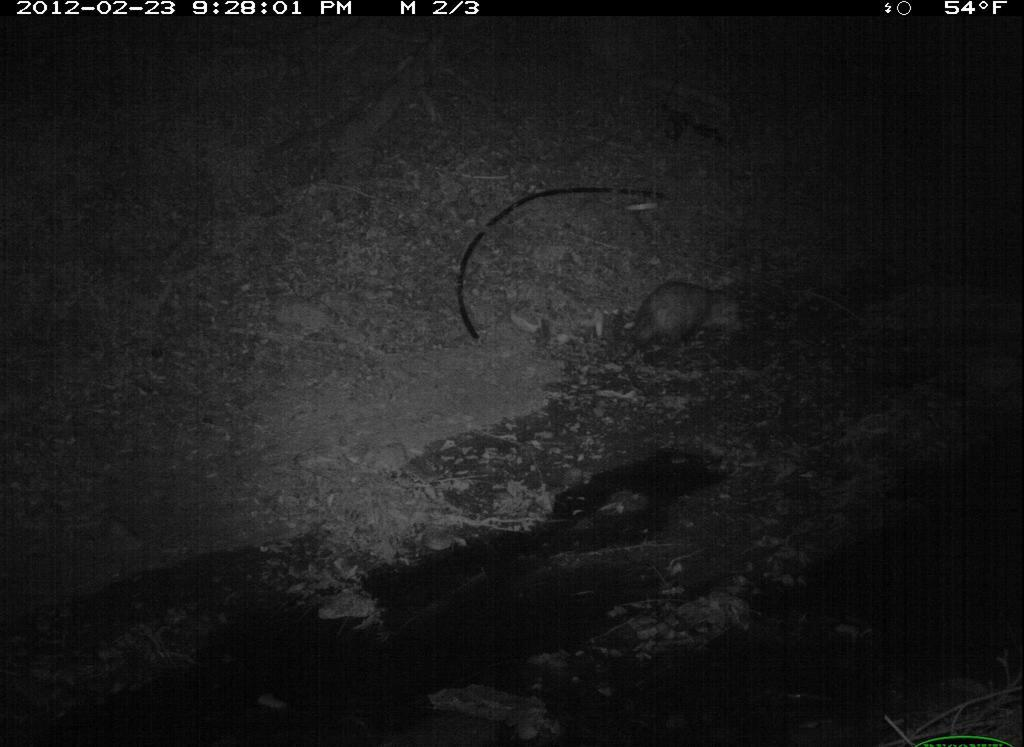opossum: (610, 277, 753, 372)
